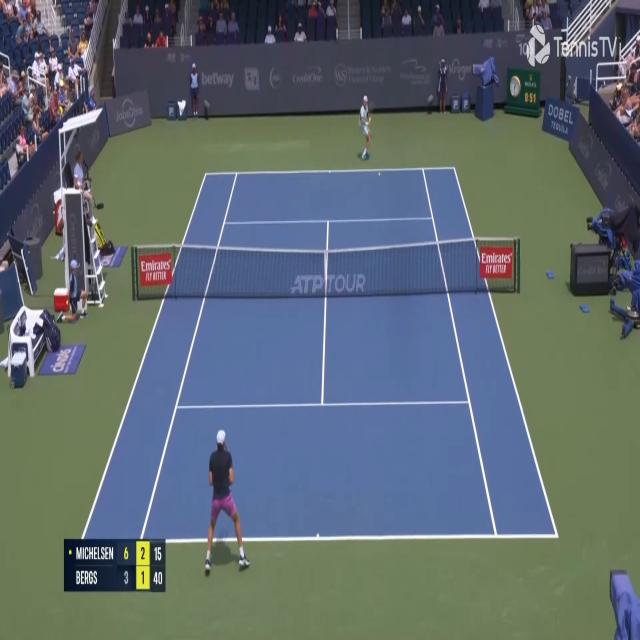tennis-player: (204, 426, 251, 580), (356, 93, 373, 162)
